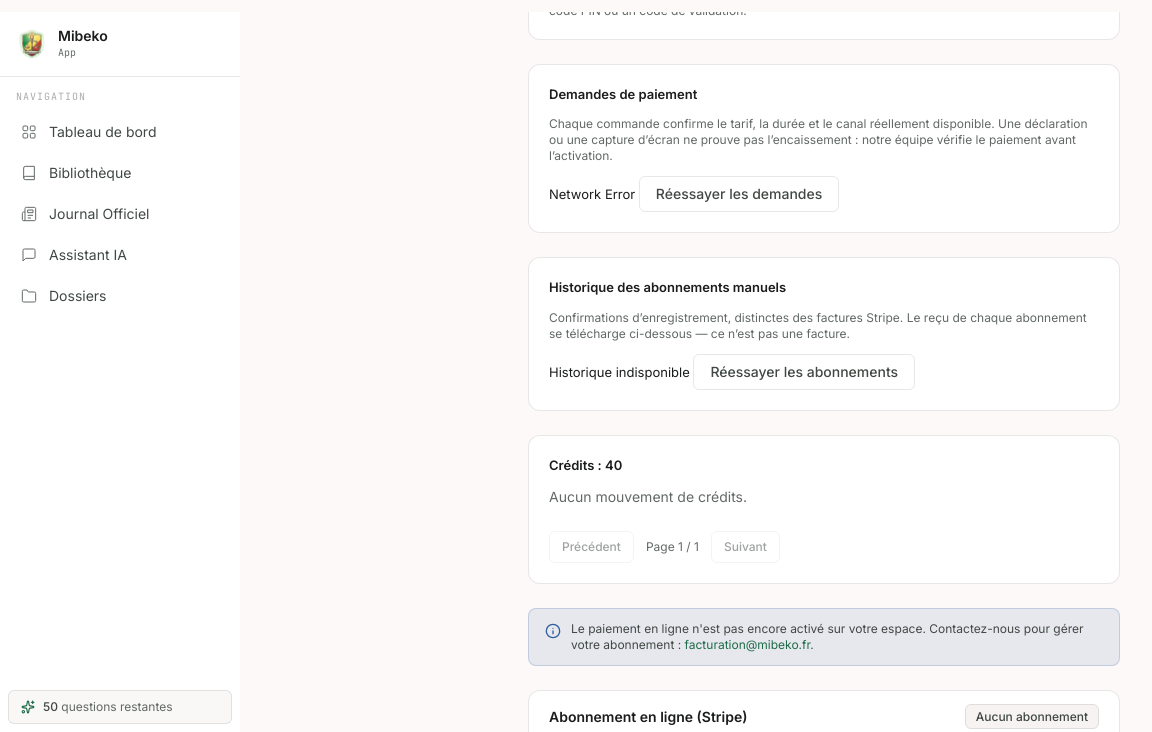
Scenario: affiche une erreur récupérable et la pagination des abonnements
(page scrolled)
Expected: the text "Historique indisponible" is shown, [549,364,690,380]
Click the button "Réessayer les abonnements" at (804, 372), box [693,354,915,390]
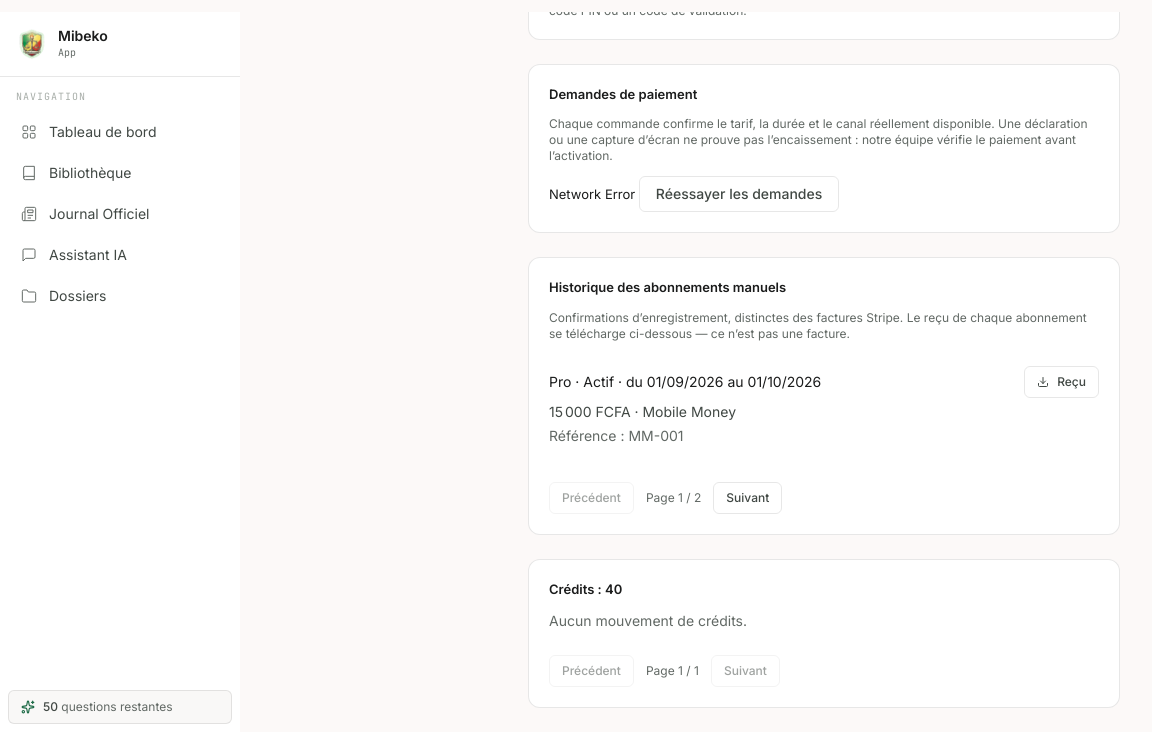
Now the text "Référence : MM-001" is shown, box [549,426,684,444]
Click the button "Suivant" below "Référence :" at (748, 498), box [713,482,782,514]
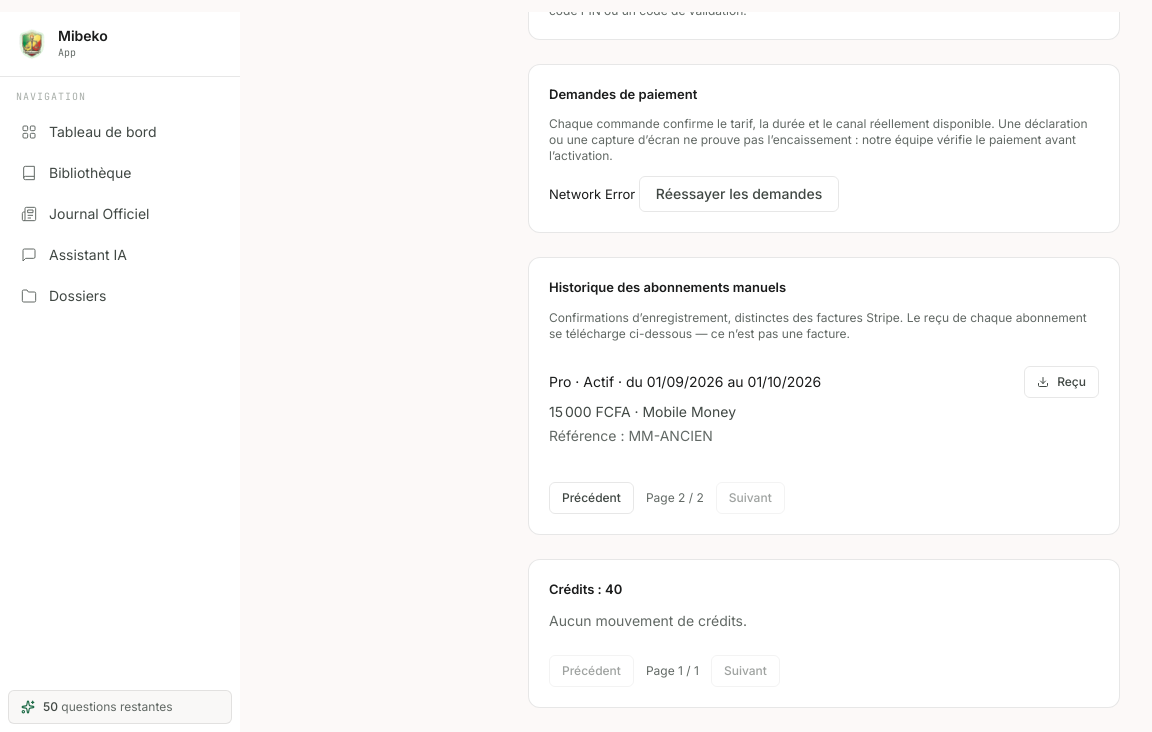
Now the text "Référence : MM-ANCIEN" is shown, box [549,426,713,444]
